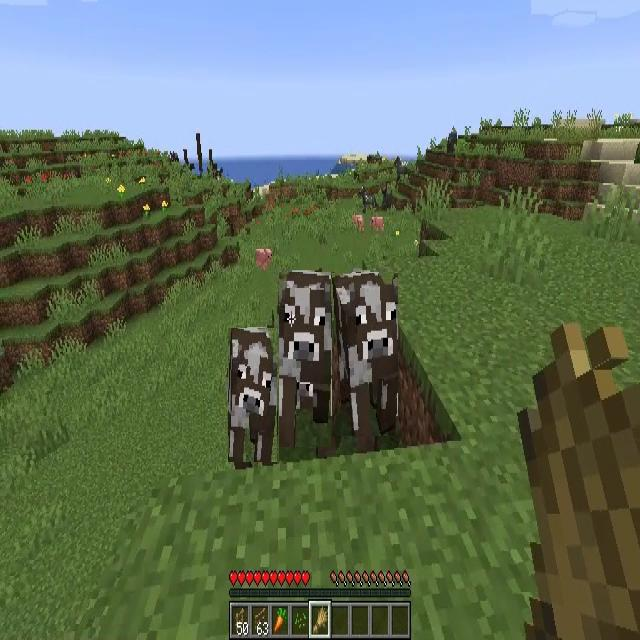cow: (332, 273, 398, 436), (280, 272, 332, 447), (228, 328, 277, 462)
flower: (143, 202, 150, 220), (118, 186, 125, 202), (105, 177, 111, 189), (162, 200, 167, 214), (140, 178, 145, 188)
pig: (256, 249, 272, 267), (370, 216, 384, 233), (352, 216, 363, 235)
